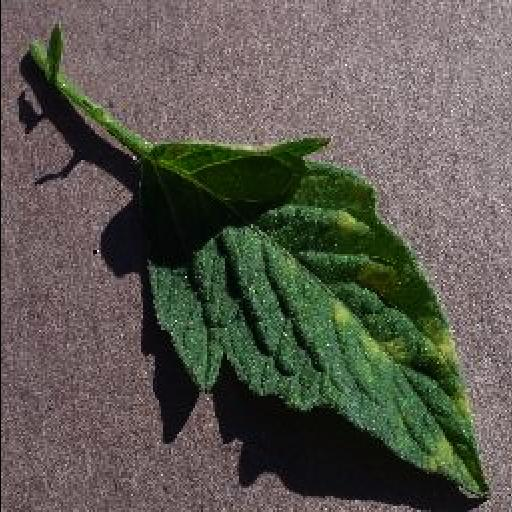disease_tomato: (135, 135, 493, 496)
